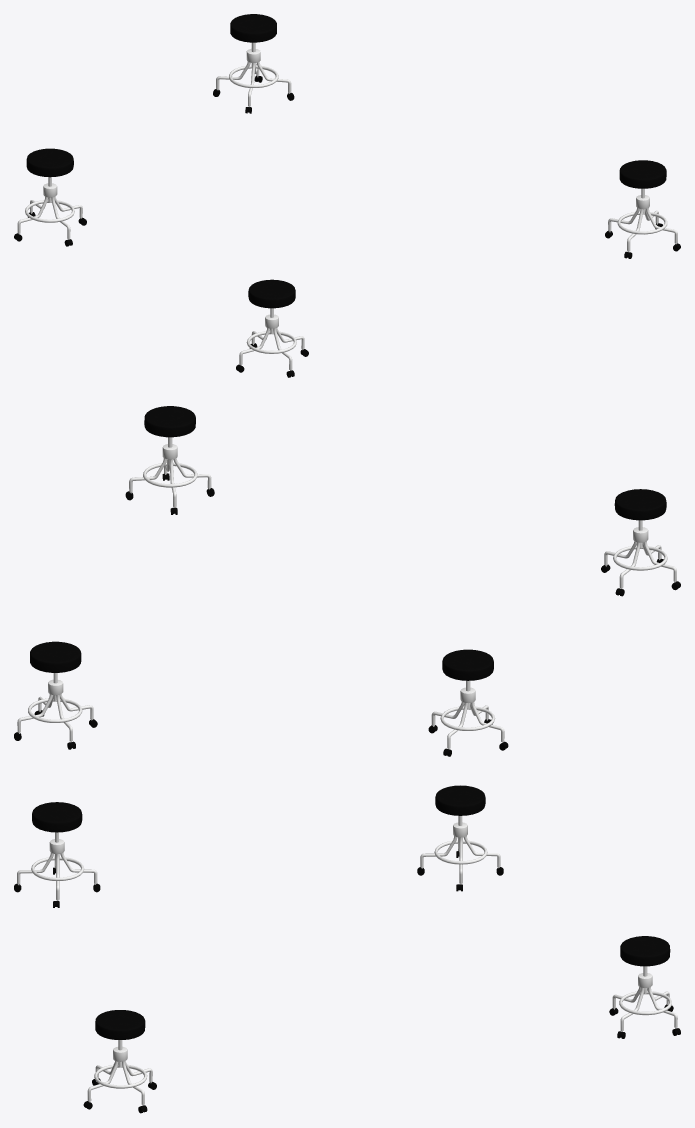
Rendered from Chair.fbx.
3 views of the same model, one above another, from view 1: azimuth 30°, elevation 25°; view 2: azimuth 150°, elevation 25°; view 3: azimuth 270°, elevation 25° (orthographic). The views are drawn at different scales.
Visible parts, largest first — view 1: Chairs; view 2: Chairs; view 3: Chairs.
Boxes of the visible parts, left/top/right/bottom form: Chairs: left=14, top=14, right=680, bottom=377; Chairs: left=14, top=406, right=680, bottom=756; Chairs: left=14, top=785, right=680, bottom=1113.
Size of the model in its own units: 555 by 79.02 by 606.
Materials: 1 (1 with a texture image).
